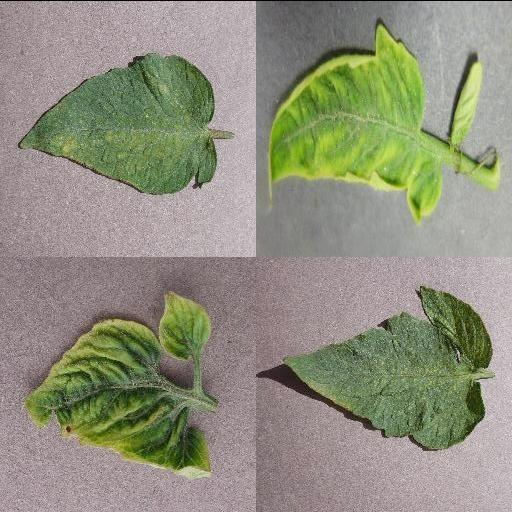Spider Mites: (282, 285, 494, 451), (16, 52, 216, 194)
Yellow Leaf Curl Virus: (267, 22, 445, 226), (22, 318, 212, 476), (159, 287, 211, 362), (449, 57, 483, 145)
